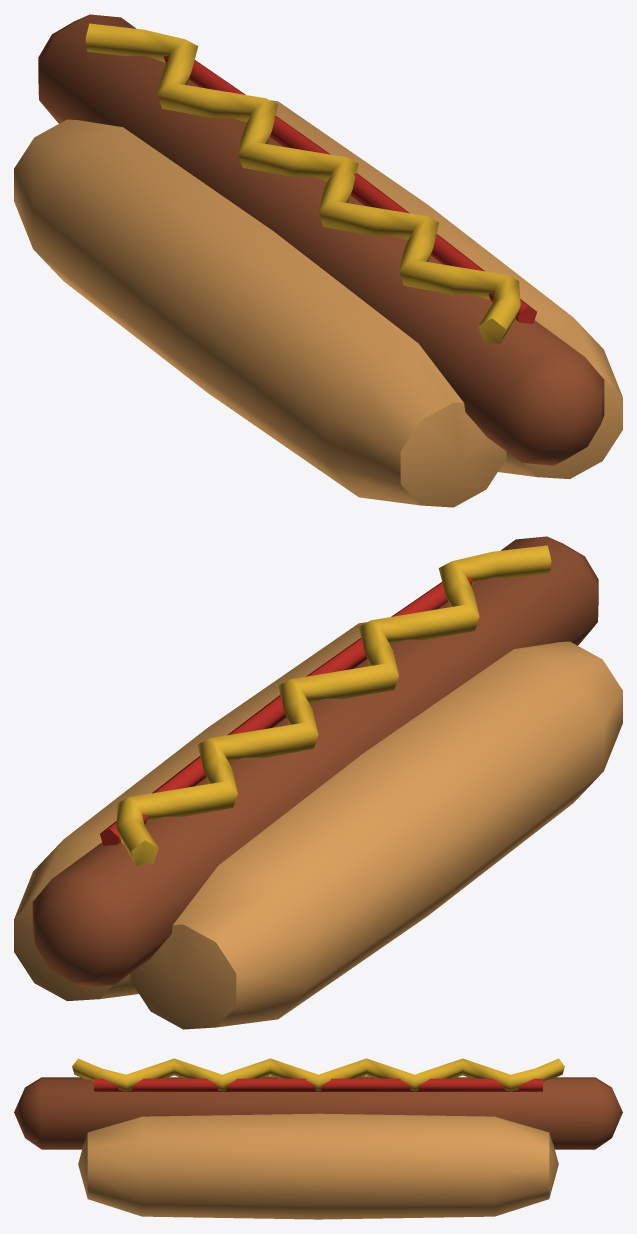
Rendered from biteHotDog.glb.
The picture shows the model from 3 angles, top to bottom: view 1: azimuth 30°, elevation 25°; view 2: azimuth 150°, elevation 25°; view 3: azimuth 270°, elevation 25°; orthographic projection. The views are drawn at different scales.
Parts seen in each view (by area): view 1: biteHotDog; view 2: biteHotDog; view 3: biteHotDog.
Boxes of the visible parts, left/top/right/bottom form: biteHotDog: left=14, top=14, right=622, bottom=507; biteHotDog: left=14, top=536, right=622, bottom=1029; biteHotDog: left=14, top=1058, right=622, bottom=1219.
Size of the model in its own units: 0.0611 by 0.0449 by 0.19.
